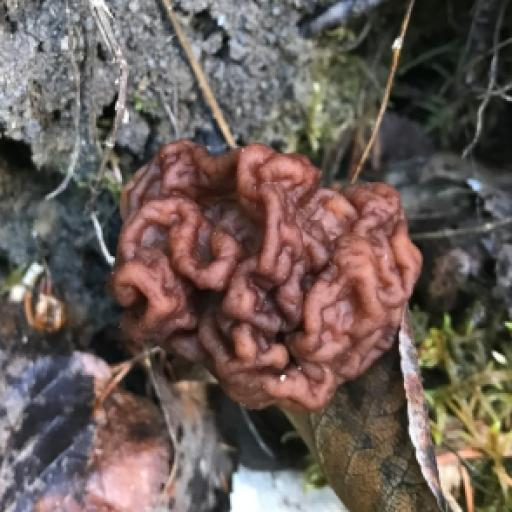mushroom: (97, 127, 438, 428)
